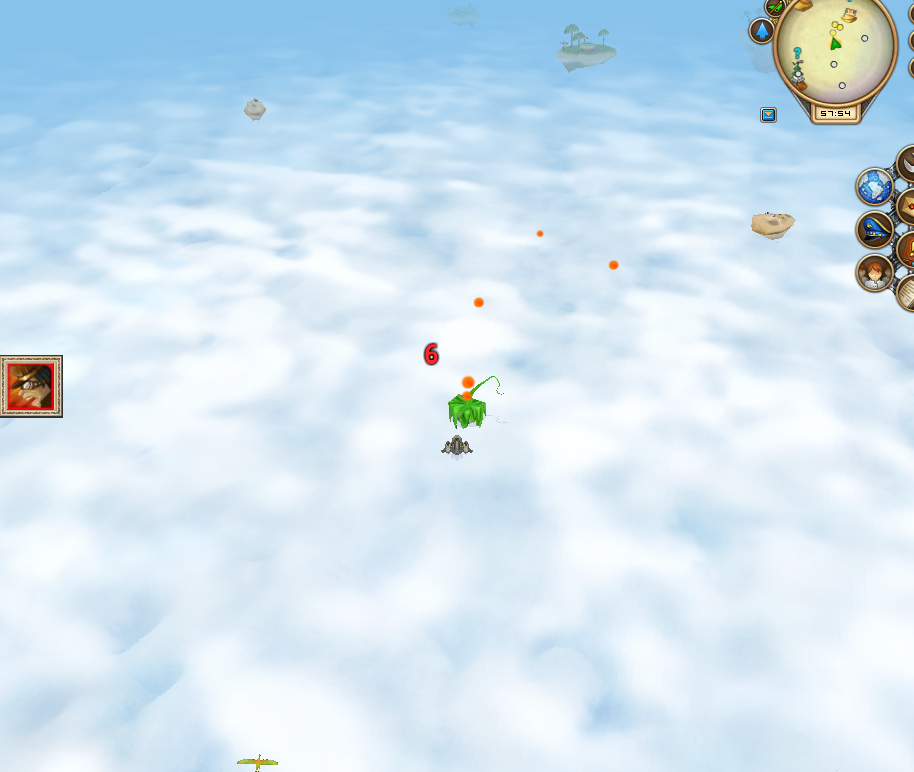dandelion-full: (443, 370, 507, 432)
fluff: (471, 294, 486, 308), (606, 258, 620, 273), (534, 226, 545, 238)
